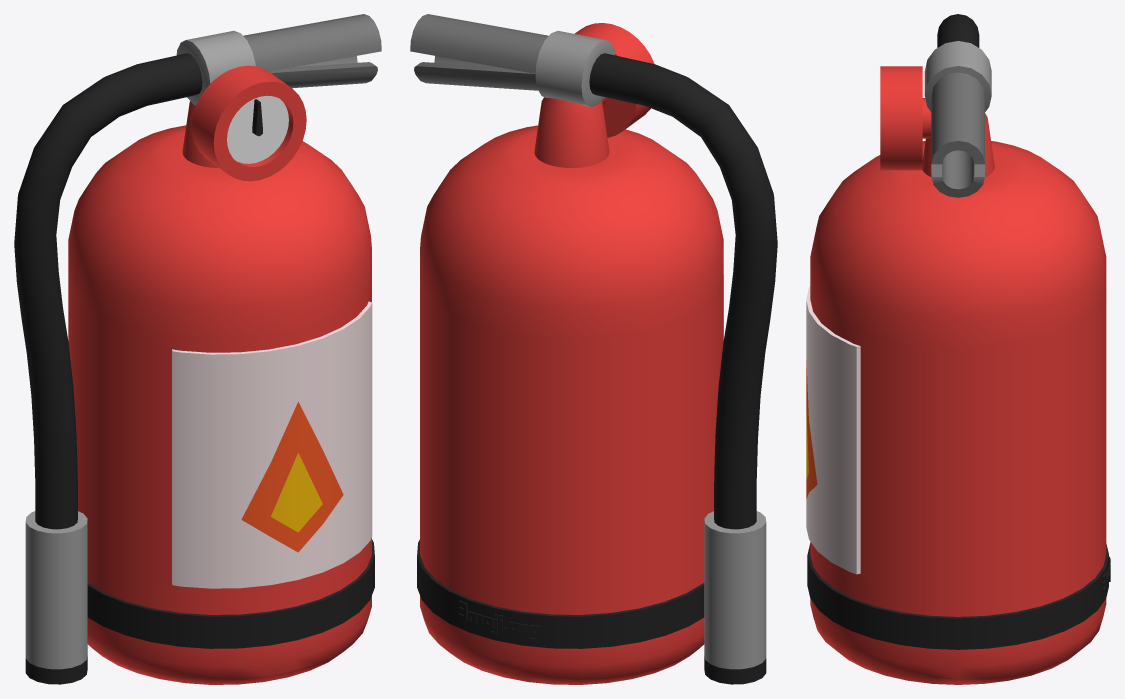
Rendered from fire_extinguisher.fbx.
3 views of the same model, side by side, from view 1: azimuth 30°, elevation 25°; view 2: azimuth 150°, elevation 25°; view 3: azimuth 270°, elevation 25° (orthographic). The views are drawn at different scales.
Parts seen in each view (by area): view 1: Circle.2610; view 2: Circle.2610; view 3: Circle.2610.
Boxes of the visible parts, bbox=[...] form: Circle.2610: bbox=[14, 14, 381, 684]; Circle.2610: bbox=[410, 14, 777, 684]; Circle.2610: bbox=[806, 14, 1110, 684].
Size of the model in its own units: 137 by 221 by 105.
1 material, 1 textured.
